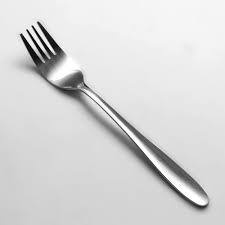fork: (16, 16, 213, 210)
